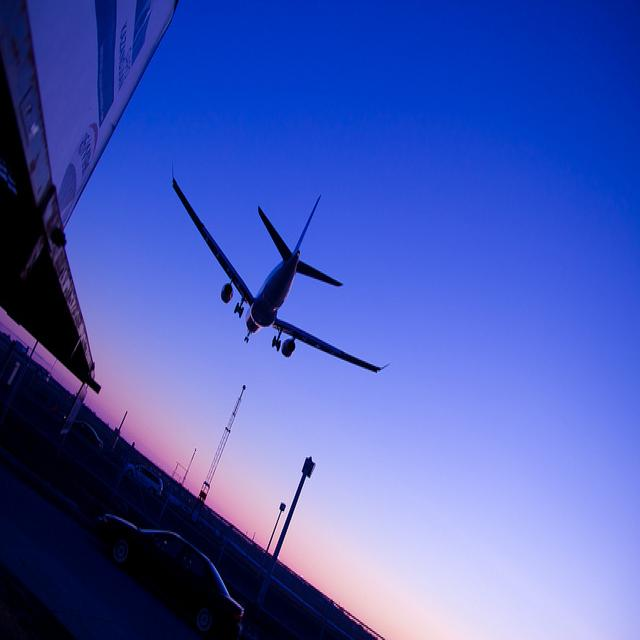Vehicle: (99, 514, 245, 636), (124, 466, 165, 496), (72, 421, 105, 454)
